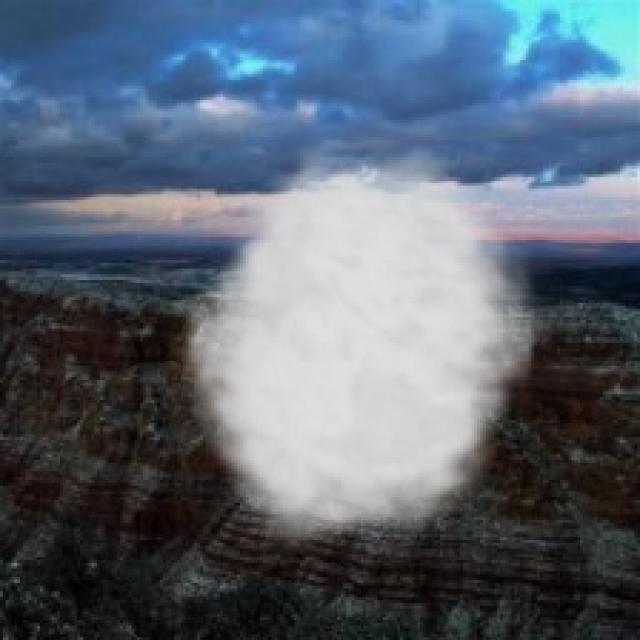smoke: (172, 140, 554, 560)
